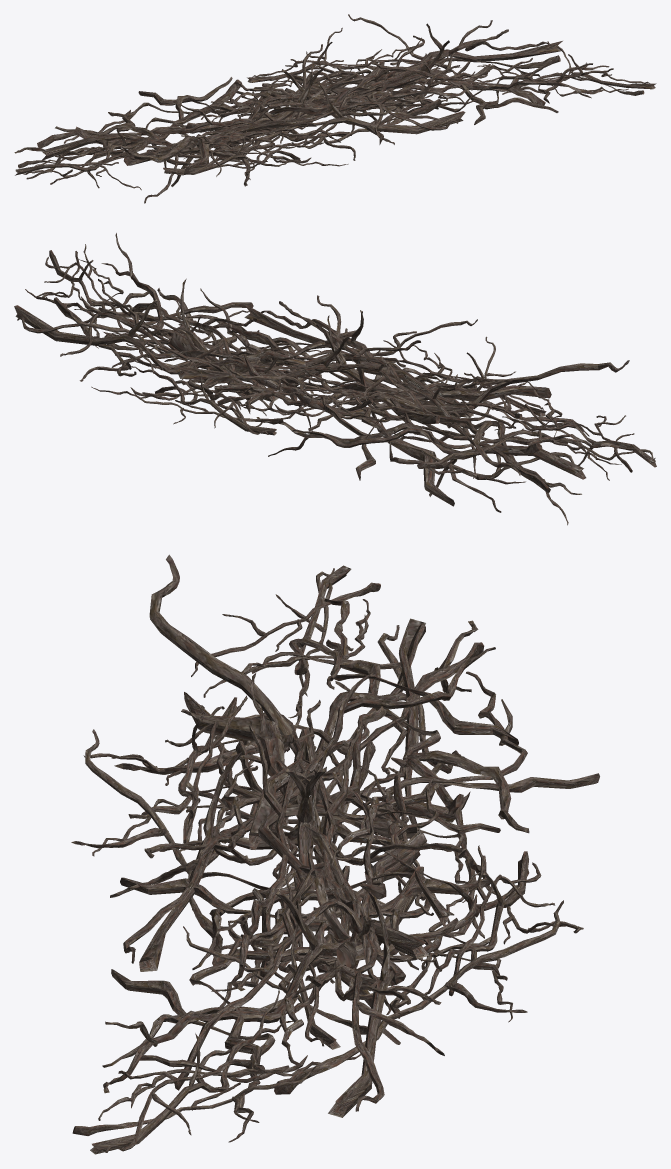
The model's file is _Scatter.fbx.
3 views of the same model, one above another, from view 1: azimuth 30°, elevation 25°; view 2: azimuth 150°, elevation 25°; view 3: azimuth 270°, elevation 25° (orthographic). The views are drawn at different scales.
Visible parts, largest first — view 1: Scatter_07_v1, Scatter_06_v1, Scatter_04_v1, Scatter_05_v1, Scatter_03_v1, Scatter_01_v1, Scatter_02_v1; view 2: Scatter_07_v1, Scatter_06_v1, Scatter_04_v1, Scatter_05_v1, Scatter_03_v1, Scatter_01_v1, Scatter_02_v1; view 3: Scatter_07_v1, Scatter_06_v1, Scatter_04_v1, Scatter_05_v1, Scatter_03_v1, Scatter_01_v1, Scatter_02_v1.
Part boxes in pixels (x1,y1,x2,y2): Scatter_07_v1: (14, 14, 656, 203); Scatter_06_v1: (163, 37, 490, 179); Scatter_04_v1: (123, 61, 474, 169); Scatter_05_v1: (196, 44, 440, 153); Scatter_03_v1: (124, 61, 428, 186); Scatter_01_v1: (184, 73, 470, 174); Scatter_02_v1: (189, 65, 468, 147); Scatter_07_v1: (14, 233, 656, 525); Scatter_06_v1: (103, 295, 546, 426); Scatter_04_v1: (111, 300, 527, 506); Scatter_05_v1: (130, 330, 476, 417); Scatter_03_v1: (169, 332, 629, 436); Scatter_01_v1: (160, 336, 551, 415); Scatter_02_v1: (193, 288, 473, 417); Scatter_07_v1: (72, 565, 599, 1154); Scatter_06_v1: (71, 675, 490, 1049); Scatter_04_v1: (220, 673, 470, 1044); Scatter_05_v1: (120, 722, 466, 1015); Scatter_03_v1: (114, 554, 386, 968); Scatter_01_v1: (184, 692, 426, 1013); Scatter_02_v1: (192, 728, 318, 990).
Bounding box in the file's own units: 328 × 53.92 × 130.
